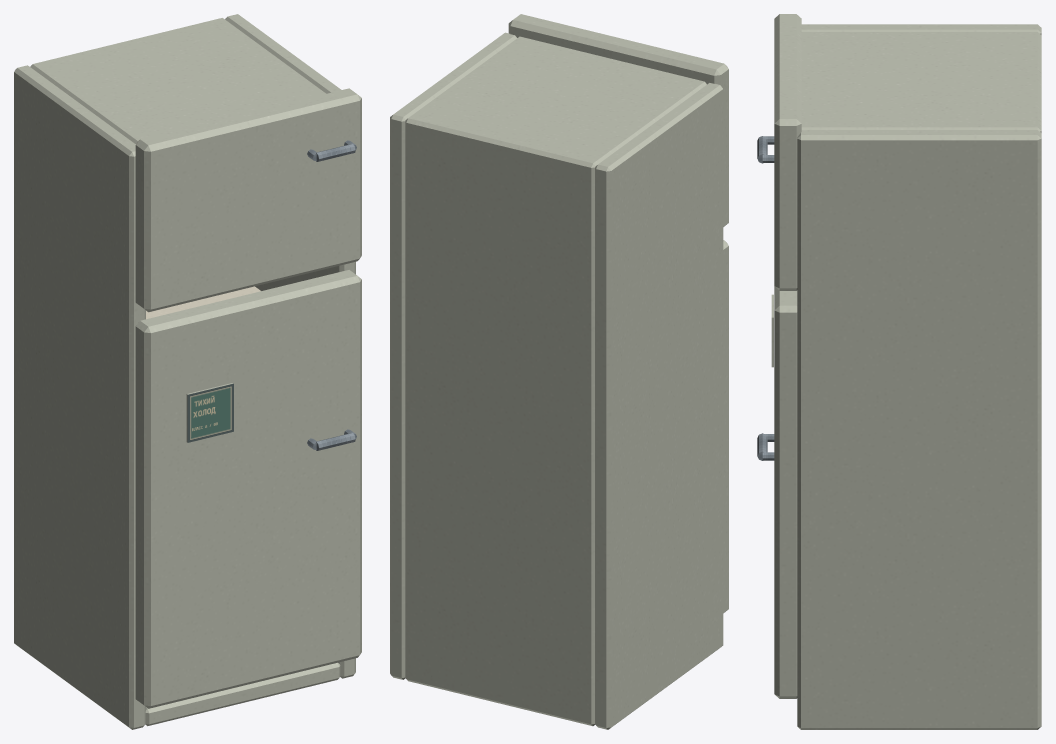
Rendered from MD_48_Refrigerator.fbx.
3 views of the same model, side by side, from view 1: azimuth 30°, elevation 25°; view 2: azimuth 150°, elevation 25°; view 3: azimuth 270°, elevation 25° (orthographic). The views are drawn at different scales.
Parts seen in each view (by area): view 1: MD_48_Refrigerator_separate_refrigerator_door, MD_48_Refrigerator_insulated_side, MD_48_Refrigerator_separate_refrigerator_door.001, MD_48_Refrigerator_insulated_end.001, MD_48_Refrigerator_insulated_end, MD_48_Refrigerator_insulated_side.001, MD_48_Refrigerator_brand_sticker, MD_48_Refrigerator_interior_shelf.002; view 2: MD_48_Refrigerator_insulated_back, MD_48_Refrigerator_insulated_side, MD_48_Refrigerator_insulated_end.001, MD_48_Refrigerator_insulated_side.001, MD_48_Refrigerator_separate_refrigerator_door.001, MD_48_Refrigerator_separate_refrigerator_door, MD_48_Refrigerator_insulated_end; view 3: MD_48_Refrigerator_insulated_side.001, MD_48_Refrigerator_insulated_end.001, MD_48_Refrigerator_separate_refrigerator_door, MD_48_Refrigerator_separate_refrigerator_door.001, MD_48_Refrigerator_insulated_side.
Part boxes in pixels (x1,y1,x2,y2): MD_48_Refrigerator_separate_refrigerator_door: (135,270,361,708); MD_48_Refrigerator_insulated_side: (14,65,145,729); MD_48_Refrigerator_separate_refrigerator_door.001: (135,88,361,312); MD_48_Refrigerator_insulated_end.001: (30,18,326,143); MD_48_Refrigerator_insulated_end: (145,662,340,726); MD_48_Refrigerator_insulated_side.001: (225,14,355,678); MD_48_Refrigerator_brand_sticker: (186,383,233,442); MD_48_Refrigerator_interior_shelf.002: (146,286,260,319); MD_48_Refrigerator_insulated_back: (405,121,595,726); MD_48_Refrigerator_insulated_side: (595,83,723,729); MD_48_Refrigerator_insulated_end.001: (405,36,706,177); MD_48_Refrigerator_insulated_side.001: (390,32,516,679); MD_48_Refrigerator_separate_refrigerator_door.001: (508,14,728,226); MD_48_Refrigerator_separate_refrigerator_door: (723,240,728,613); MD_48_Refrigerator_insulated_end: (405,669,595,725); MD_48_Refrigerator_insulated_side.001: (797,130,1041,729); MD_48_Refrigerator_insulated_end.001: (801,32,1041,132); MD_48_Refrigerator_separate_refrigerator_door: (774,286,797,698); MD_48_Refrigerator_separate_refrigerator_door.001: (774,14,801,290); MD_48_Refrigerator_insulated_side: (801,24,1041,34).
Size of the model in its own units: 0.74 by 1.86 by 0.779.
5 materials, 5 textured.
